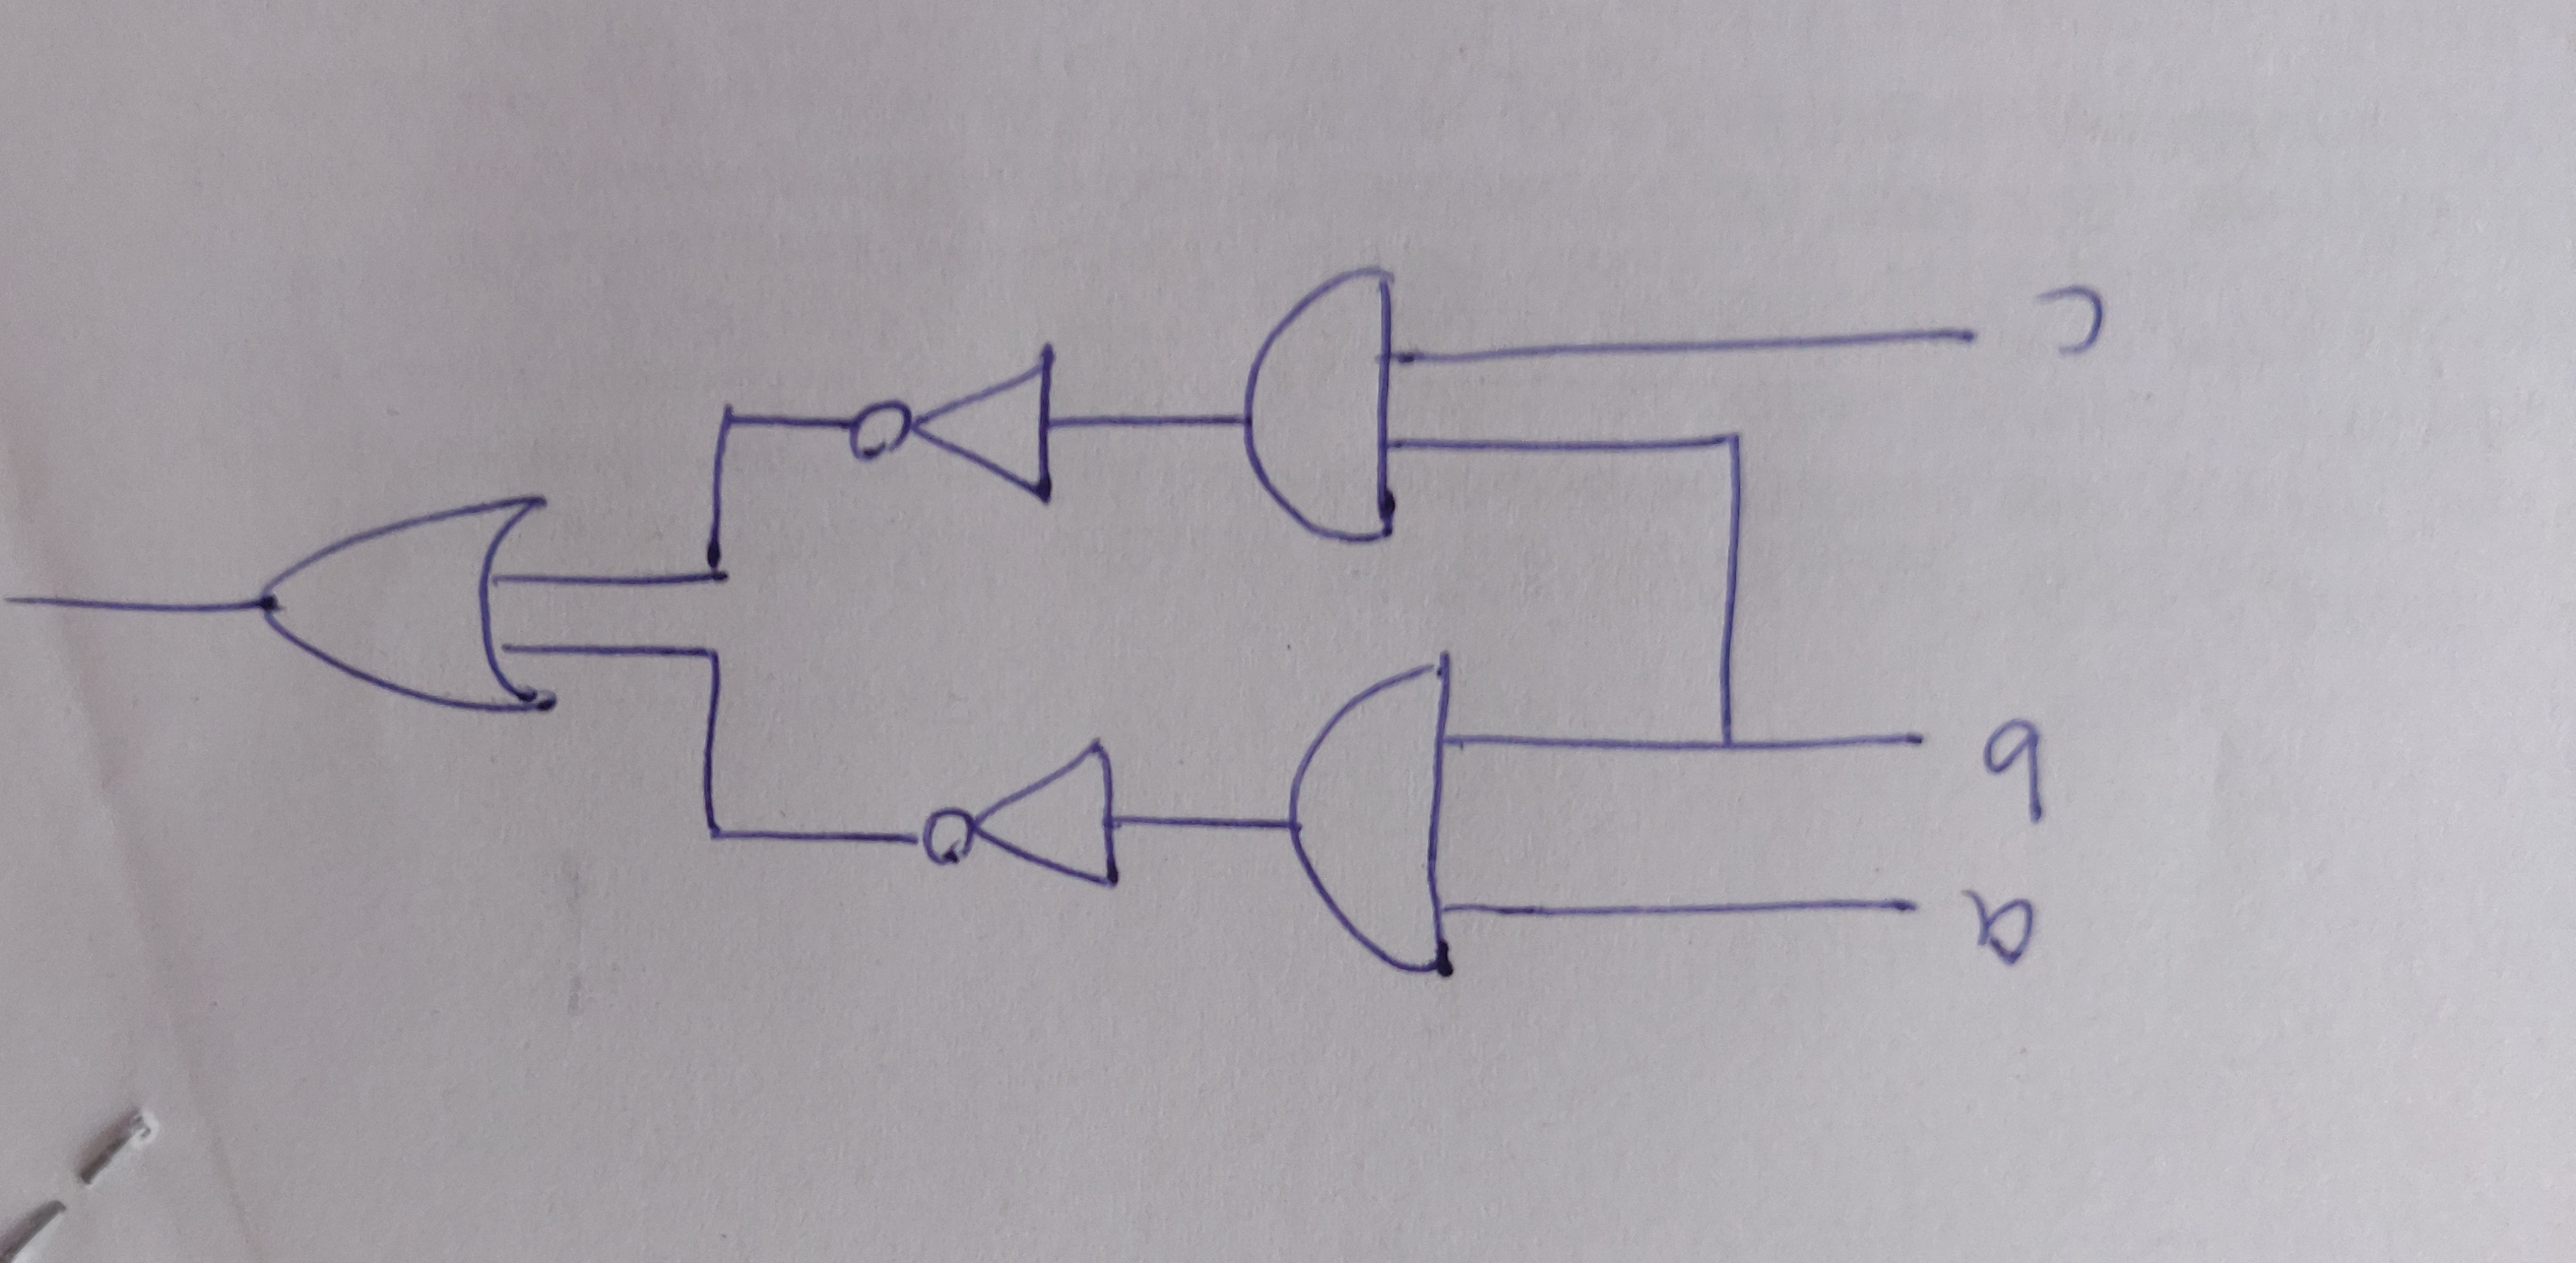and: (1183, 227, 1506, 576), (1250, 650, 1536, 1004)
not: (877, 668, 1211, 949), (792, 312, 1109, 517)
or: (237, 412, 588, 769)
